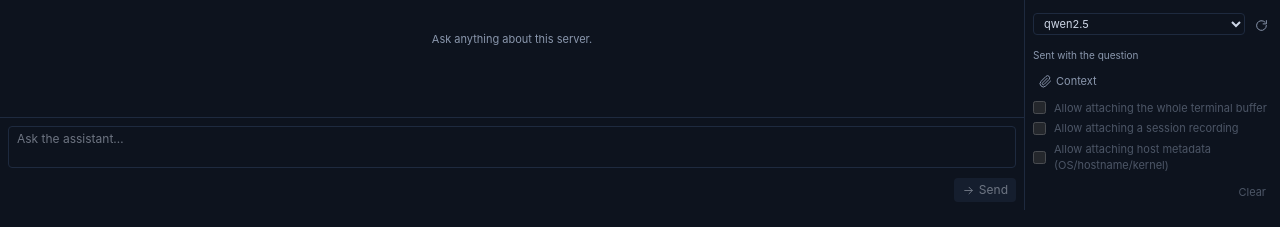
Test case: AiChat — context + consent (Phase 17.3) › sends without consent when no context is attached
This screenshot has width=1280, height=227.
Type "hello" into the text box with test id "ai-input" at (512, 147), box x1=8 y1=126 x2=1016 y2=168
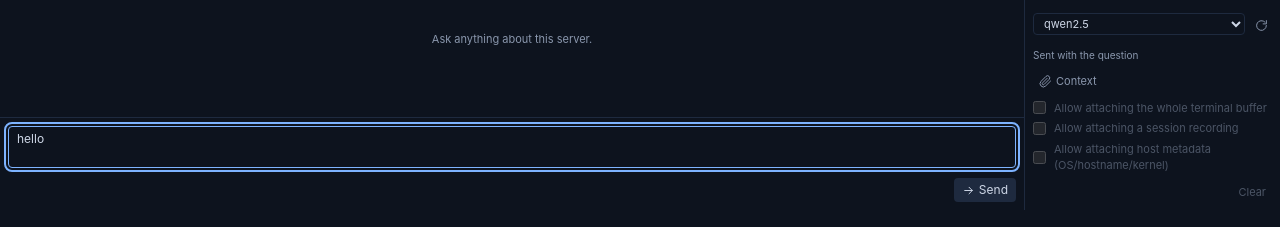
Click the button with test id "ai-send" at (985, 190), box x1=954 y1=178 x2=1016 y2=202
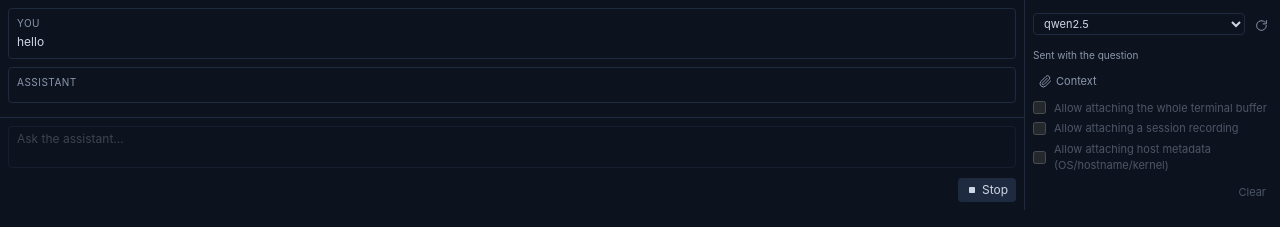
Check: the text "hello" is shown, box x1=17 y1=34 x2=44 y2=49
